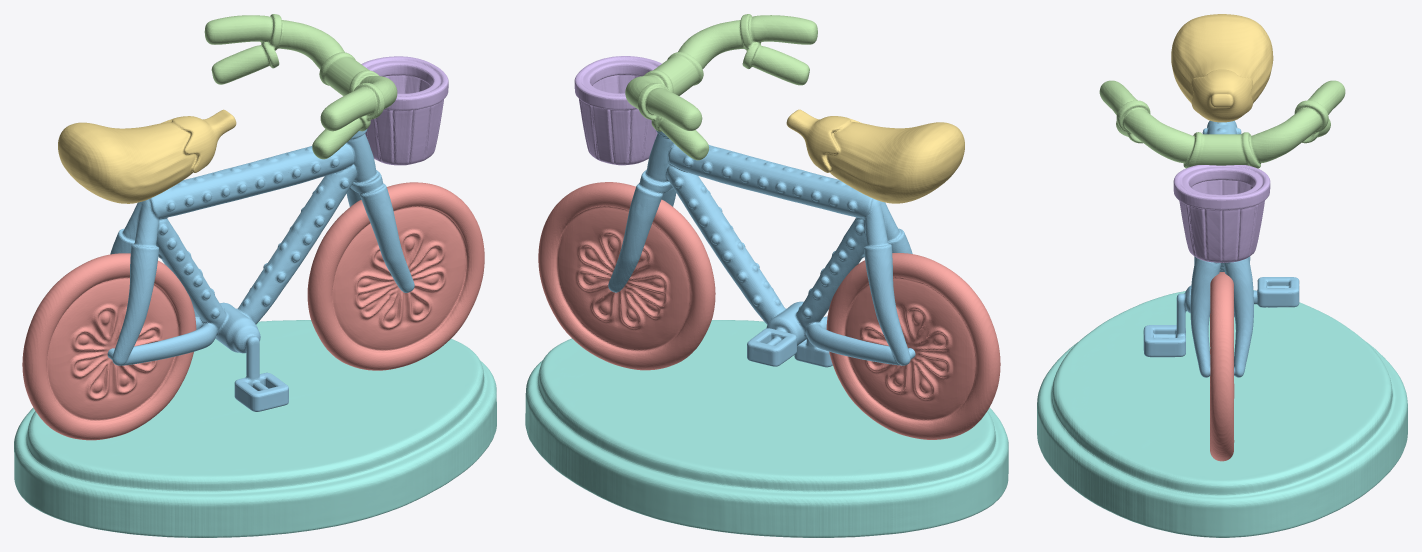
Rendered from combined_parts.glb.
The picture shows the model from 3 angles, left to right: view 1: azimuth 30°, elevation 25°; view 2: azimuth 150°, elevation 25°; view 3: azimuth 270°, elevation 25°; orthographic projection. The views are drawn at different scales.
Parts seen in each view (by area): view 1: part_006_01f4b820_e6_restored_001, part_001_01f4b820_e1_restored_001, part_002_01f4b820_e2_restored_001, part_003_01f4b820_e3_restored_001, part_004_01f4b820_e4_restored_001, part_005_01f4b820_e5_restored_001; view 2: part_006_01f4b820_e6_restored_001, part_001_01f4b820_e1_restored_001, part_002_01f4b820_e2_restored_001, part_003_01f4b820_e3_restored_001, part_004_01f4b820_e4_restored_001, part_005_01f4b820_e5_restored_001; view 3: part_006_01f4b820_e6_restored_001, part_003_01f4b820_e3_restored_001, part_004_01f4b820_e4_restored_001, part_002_01f4b820_e2_restored_001, part_005_01f4b820_e5_restored_001, part_001_01f4b820_e1_restored_001.
Part boxes in pixels (x1,y1,x2,y2): part_006_01f4b820_e6_restored_001: (14,320,496,537); part_001_01f4b820_e1_restored_001: (22,182,484,440); part_002_01f4b820_e2_restored_001: (107,129,414,411); part_003_01f4b820_e3_restored_001: (58,109,236,203); part_004_01f4b820_e4_restored_001: (204,14,397,159); part_005_01f4b820_e5_restored_001: (361,56,448,165); part_006_01f4b820_e6_restored_001: (525,320,1008,537); part_001_01f4b820_e1_restored_001: (538,182,1000,439); part_002_01f4b820_e2_restored_001: (608,130,915,367); part_003_01f4b820_e3_restored_001: (786,109,964,203); part_004_01f4b820_e4_restored_001: (625,14,817,160); part_005_01f4b820_e5_restored_001: (574,56,661,165); part_006_01f4b820_e6_restored_001: (1037,290,1407,537); part_003_01f4b820_e3_restored_001: (1171,14,1273,122); part_004_01f4b820_e4_restored_001: (1099,80,1345,168); part_002_01f4b820_e2_restored_001: (1143,120,1299,377); part_005_01f4b820_e5_restored_001: (1173,165,1270,262); part_001_01f4b820_e1_restored_001: (1210,272,1234,461).
Bounding box in the file's own units: 0.9418 × 0.7585 × 0.6984.
